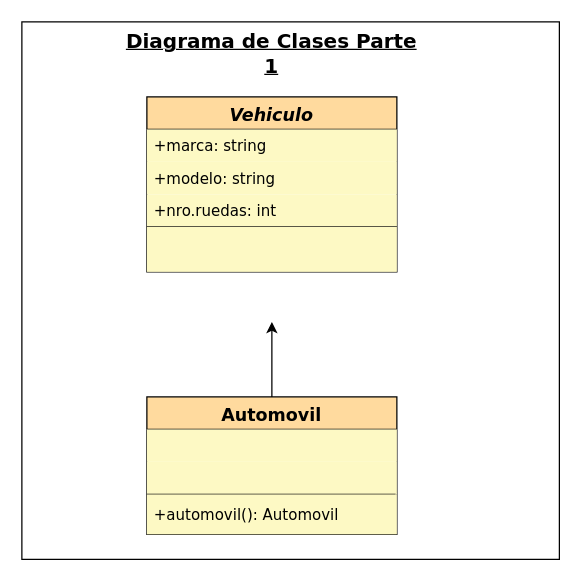
Some shapes in this 581 by 581 pixel diagram are drawn without their labels. The shapes that lost their labels are listed below. From the top down, each one's centre as x and y in pixels, then its label:
point 271,248: +vehiculo(): Vehiculo
point 271,445: +velocidad: int (Km/h)
point 271,477: +cilindrada: int (cc)
